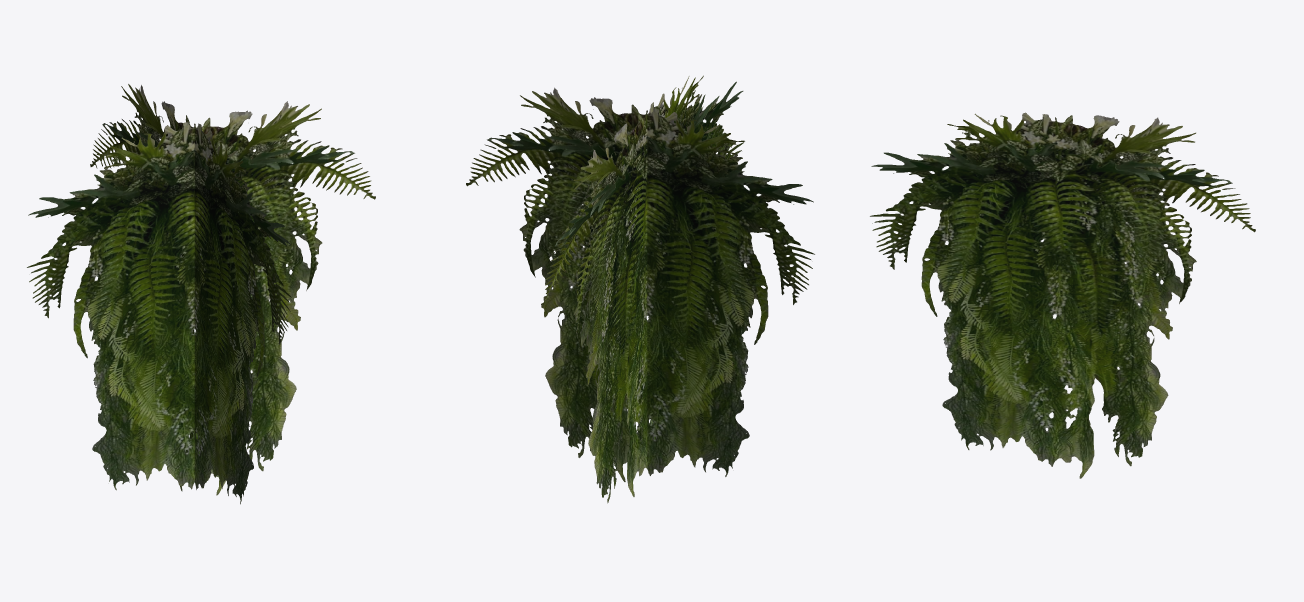
Rendered from MOD_Foliage_Fern.fbx.
3 views of the same model, side by side, from view 1: azimuth 30°, elevation 25°; view 2: azimuth 150°, elevation 25°; view 3: azimuth 270°, elevation 25° (orthographic). The views are drawn at different scales.
Parts seen in each view (by area): view 1: MOD_Foliage_Fern3, MOD_Foliage_Fern; view 2: MOD_Foliage_Fern3, MOD_Foliage_Fern; view 3: MOD_Foliage_Fern.
Boxes of the visible parts, left/top/right/bottom form: MOD_Foliage_Fern3: left=27, top=101, right=375, bottom=495; MOD_Foliage_Fern: left=90, top=84, right=291, bottom=504; MOD_Foliage_Fern3: left=466, top=87, right=814, bottom=481; MOD_Foliage_Fern: left=542, top=75, right=743, bottom=503; MOD_Foliage_Fern: left=870, top=112, right=1255, bottom=478.
Bounding box in the file's own units: 356 × 354 × 356.
